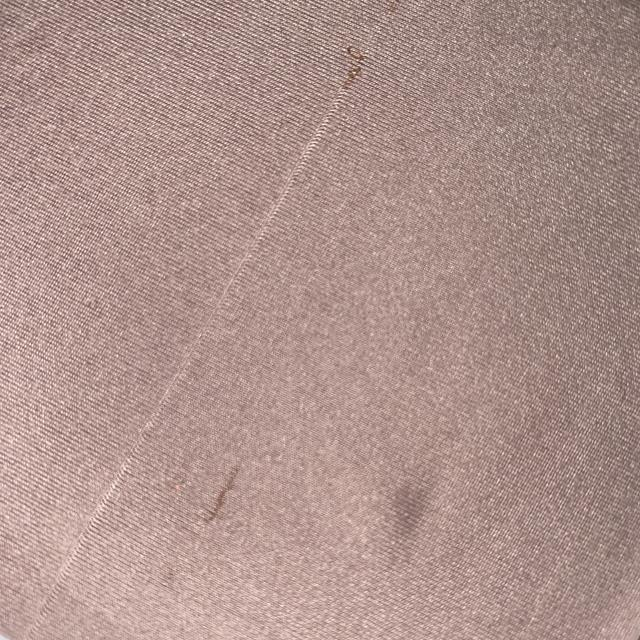Line: (17, 43, 368, 640)
